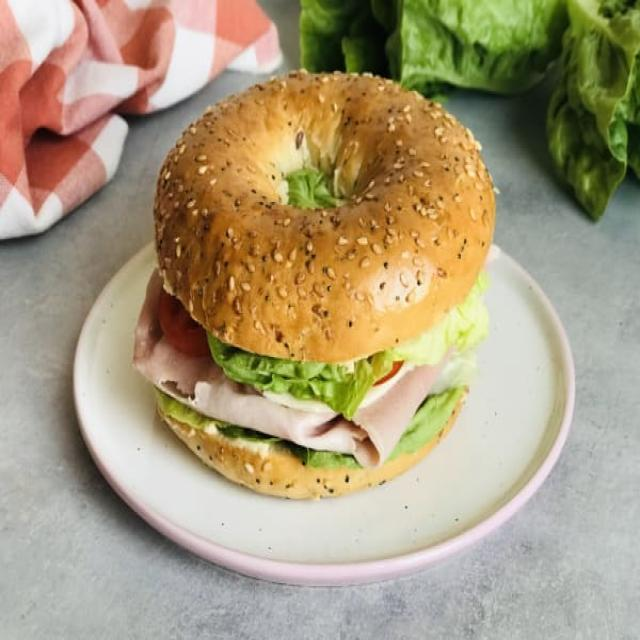Bagel: (155, 70, 495, 362)
